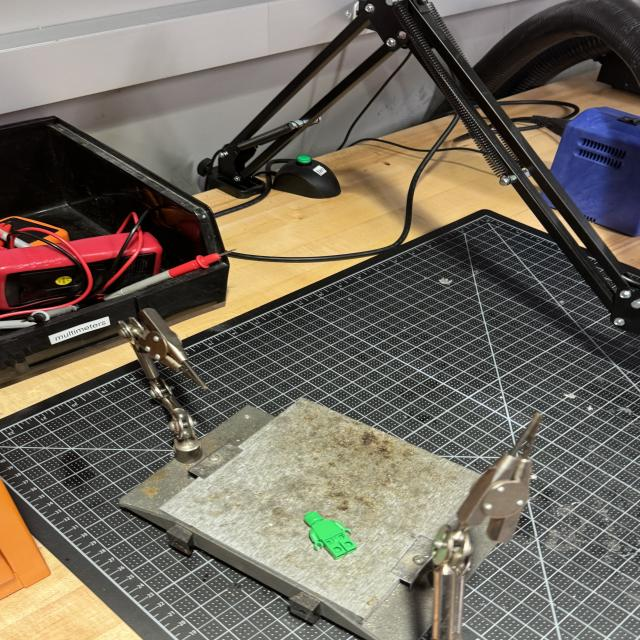Green Mini Figure: (304, 511, 357, 559)
